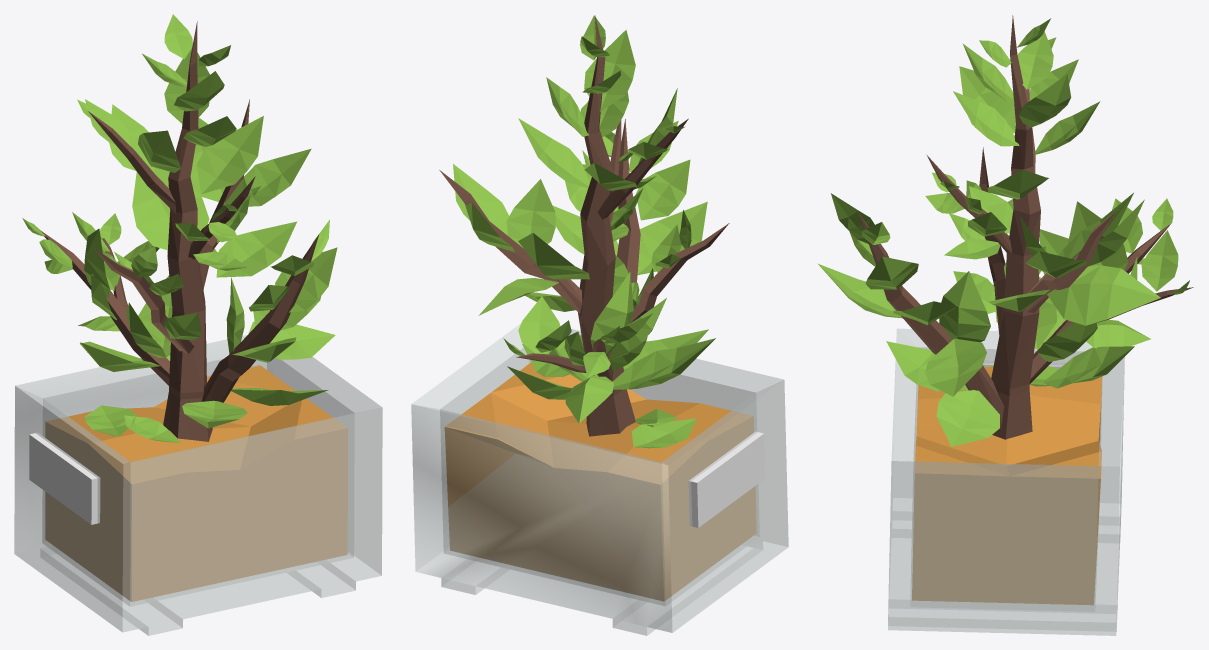
The model's file is Pot Plant.fbx.
The picture shows the model from 3 angles, left to right: view 1: azimuth 30°, elevation 25°; view 2: azimuth 150°, elevation 25°; view 3: azimuth 270°, elevation 25°; orthographic projection. The views are drawn at different scales.
Visible parts, largest first — view 1: Pot Plant; view 2: Pot Plant; view 3: Pot Plant.
Part boxes in pixels (box(x1,y1,x2,y2)): Pot Plant: box(14, 14, 382, 635); Pot Plant: box(411, 15, 788, 635); Pot Plant: box(817, 15, 1193, 635).
Bounding box in the file's own units: 0.2387 × 0.4742 × 0.2859.
